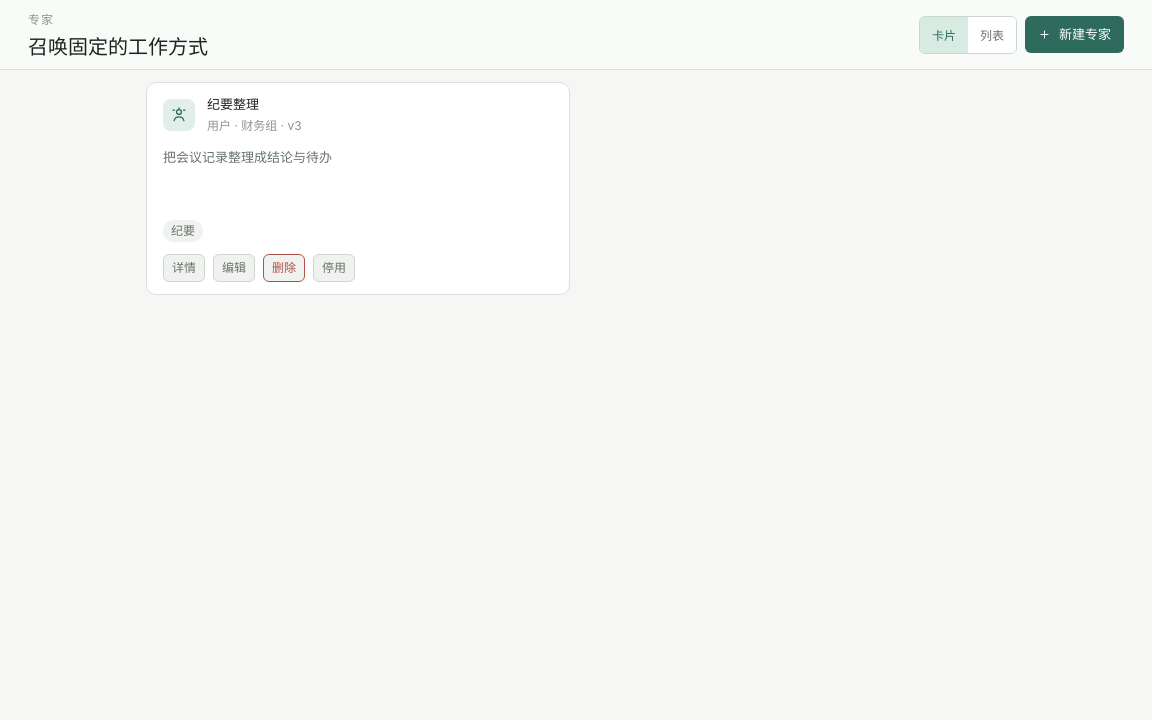
ExpertsPage 的整页配置交互 › 详情列出预设 Skill、内置工具和 MCP 工具名称
The image size is (1152, 720).
Click the button "详情" at (184, 268), box top-left (163, 254), bottom-right (205, 282)
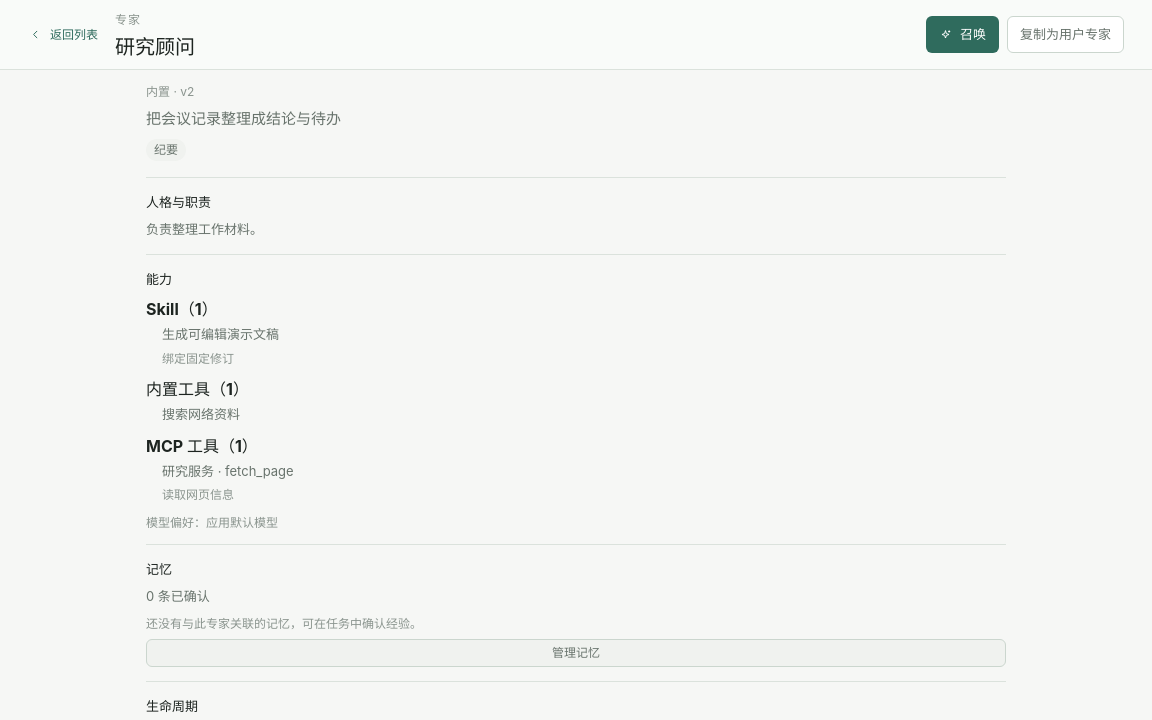
Expected: the text "生成可编辑演示文稿" is shown, top-left (162, 326), bottom-right (279, 342)
Expected: the text "绑定固定修订" is shown, top-left (162, 351), bottom-right (234, 366)
Expected: the list item "搜索网络资料" is shown, top-left (162, 406), bottom-right (240, 422)
